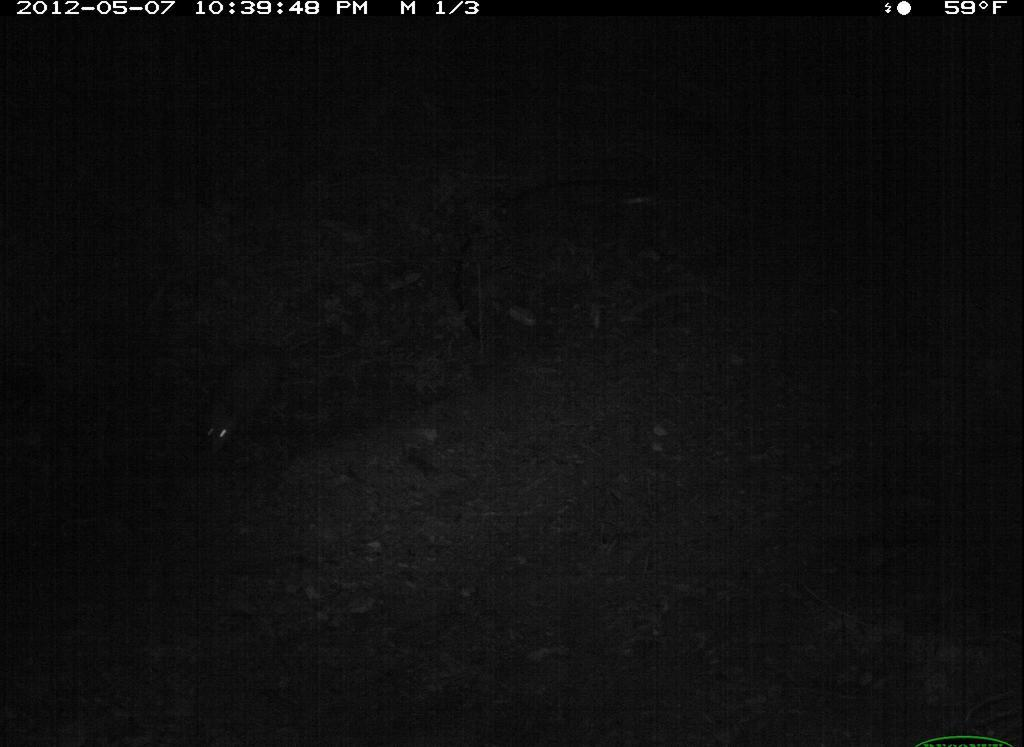opossum: (200, 326, 330, 463)
